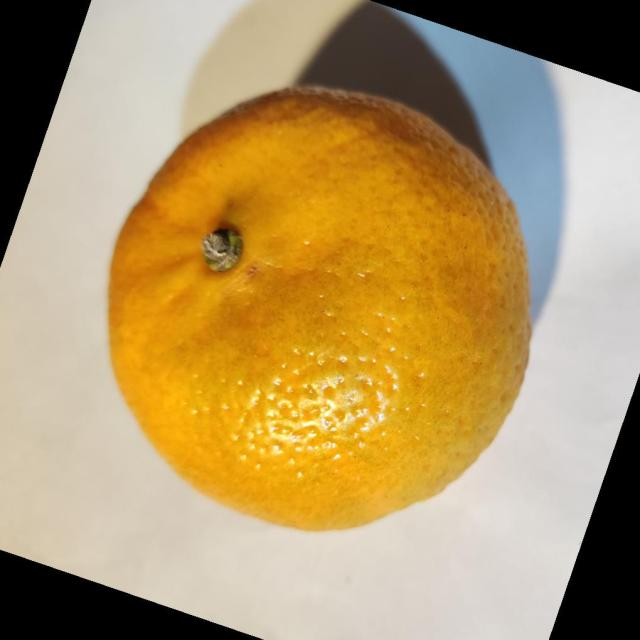fresh orange: (106, 84, 533, 532)
